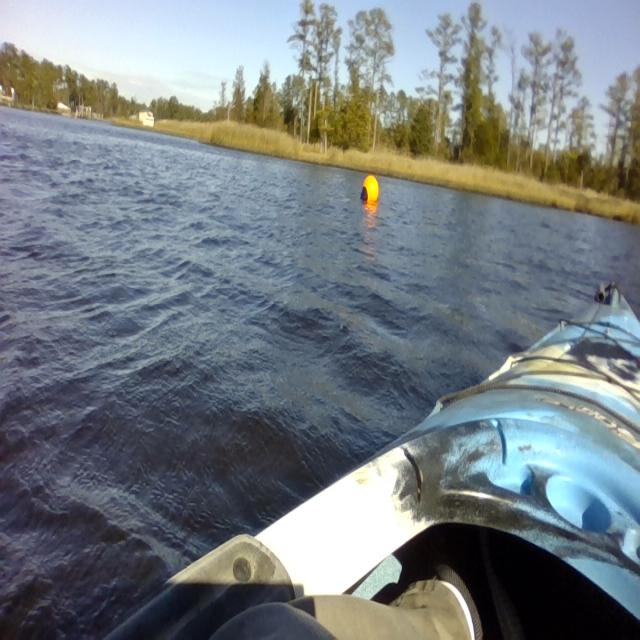Buoy: (353, 165, 383, 219)
